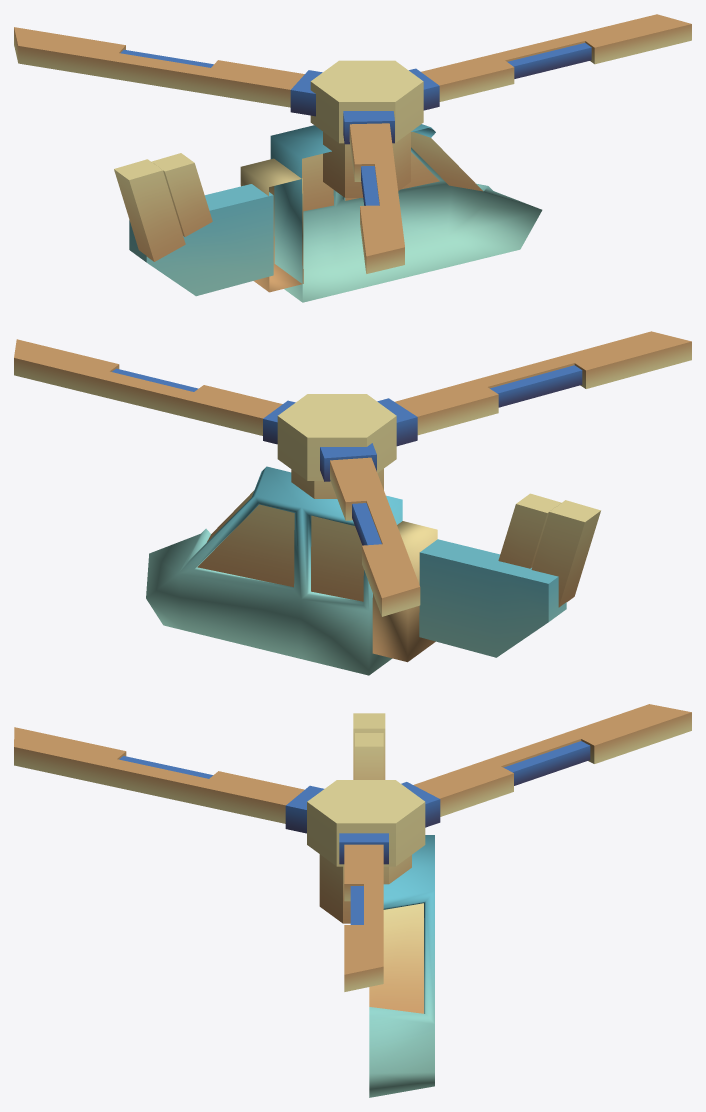
File: player sideplane.glb
3 views of the same model, one above another, from view 1: azimuth 30°, elevation 25°; view 2: azimuth 150°, elevation 25°; view 3: azimuth 270°, elevation 25° (orthographic). The views are drawn at different scales.
Parts seen in each view (by area): view 1: Cube.124, Cube.127, Cube.125, Cube.129, Cube.130, Cube.126, Cylinder.018, Cylinder.019, Cube.128; view 2: Cube.124, Cube.129, Cube.126, Cube.125, Cube.127, Cylinder.018, Cube.130, Cube.128, Cylinder.019; view 3: Cube.124, Cube.126, Cube.127, Cylinder.018, Cube.125, Cube.130, Cylinder.019.
Boxes of the visible parts, x1,y1,x2,y2 form: Cube.124: (270,124,542,302); Cube.127: (14,27,322,116); Cube.125: (409,14,691,110); Cube.129: (129,184,273,296); Cube.130: (114,153,212,261); Cube.126: (343,111,404,273); Cylinder.018: (310,60,423,143); Cylinder.019: (323,132,410,197); Cube.128: (240,158,303,292); Cube.124: (146,466,402,675); Cube.129: (419,539,566,657); Cube.126: (377,331,691,446); Cube.125: (14,339,295,444); Cube.127: (320,443,420,616); Cylinder.018: (277,394,396,480); Cube.130: (498,493,600,607); Cube.128: (372,521,437,662); Cylinder.019: (291,469,383,498); Cube.124: (369,835,434,1097); Cube.126: (14,727,323,833); Cube.127: (401,704,691,827); Cylinder.018: (307,780,425,866); Cube.125: (339,833,388,991); Cube.130: (353,713,385,779); Cylinder.019: (319,854,411,923).
Bounding box in the file's own units: 9.35 × 3.31 × 9.37.
1 material, 1 textured.
